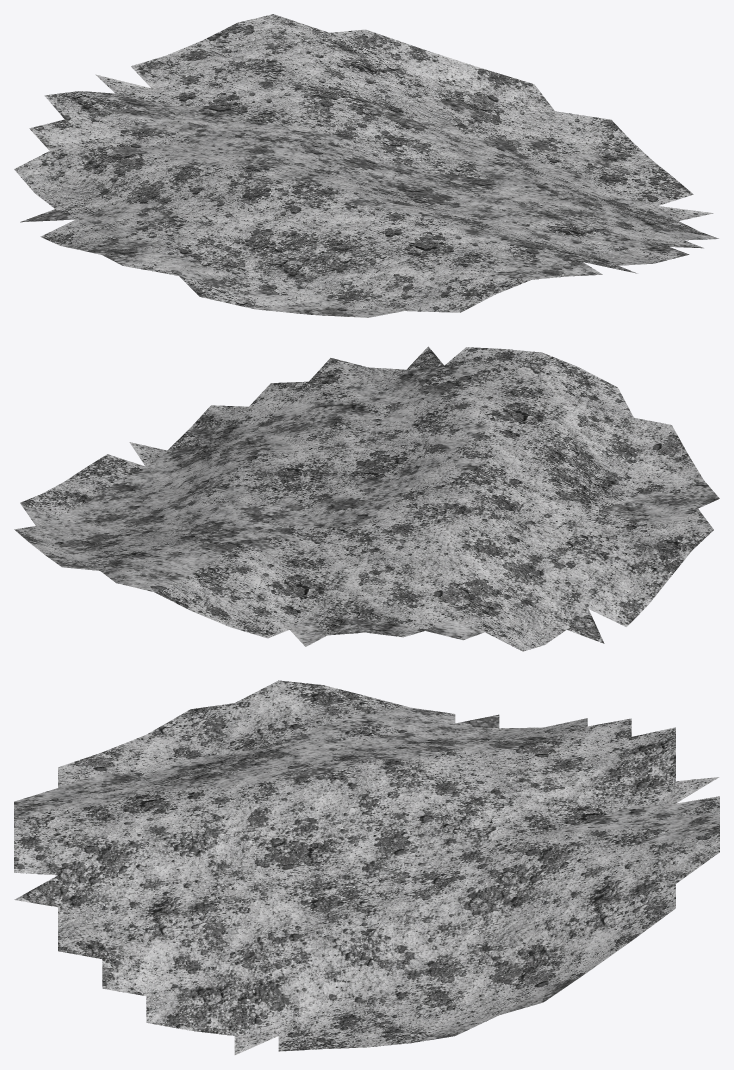
Rendered from hill.dae.
The picture shows the model from 3 angles, top to bottom: view 1: azimuth 30°, elevation 25°; view 2: azimuth 150°, elevation 25°; view 3: azimuth 270°, elevation 25°; orthographic projection. The views are drawn at different scales.
Parts seen in each view (by area): view 1: Terrain; view 2: Terrain; view 3: Terrain.
Boxes of the visible parts, box(x1,y1,x2,y2) form: Terrain: box(14, 14, 718, 317); Terrain: box(14, 346, 719, 651); Terrain: box(14, 680, 719, 1054).
Bounding box in the file's own units: 8 × 8 × 1.16.
1 material, 1 textured.
